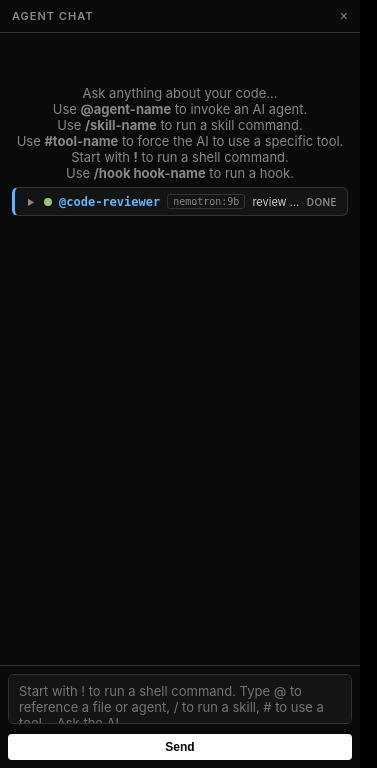
Test: ChatPanel — sub-agent trigger (@agent → spawn_subagent) › supports KTO thumbs-up on a completed sub-agent
Expand the sub-agent so the thumbs-up button is available.
Click the text "@code-reviewer": [110, 202] box [59, 194, 160, 208]
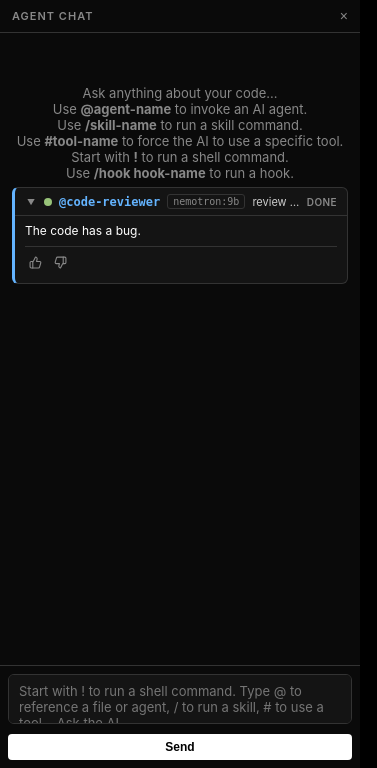
The thumbs-up button appears (same rlhf-btn-up style as the main chat).
Click the button named "Thumbs up": [36, 262] box [25, 252, 46, 273]
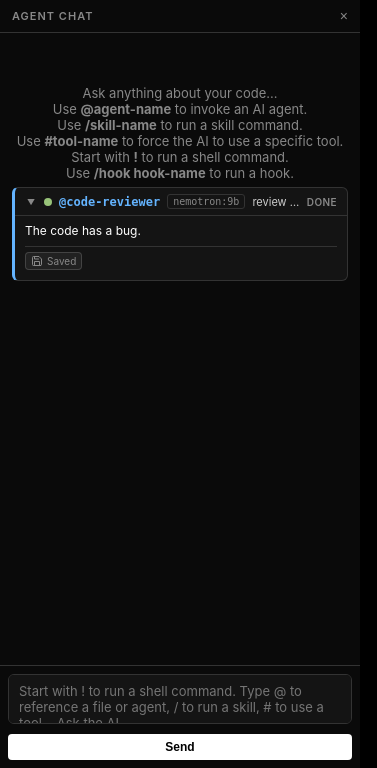
Check: the number of elements with class "rlhf-badge-saved" is 1, box [25, 252, 82, 270]
